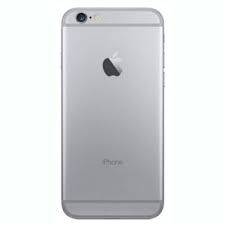iphone: (55, 3, 167, 220)
iphone5: (55, 3, 167, 220)
